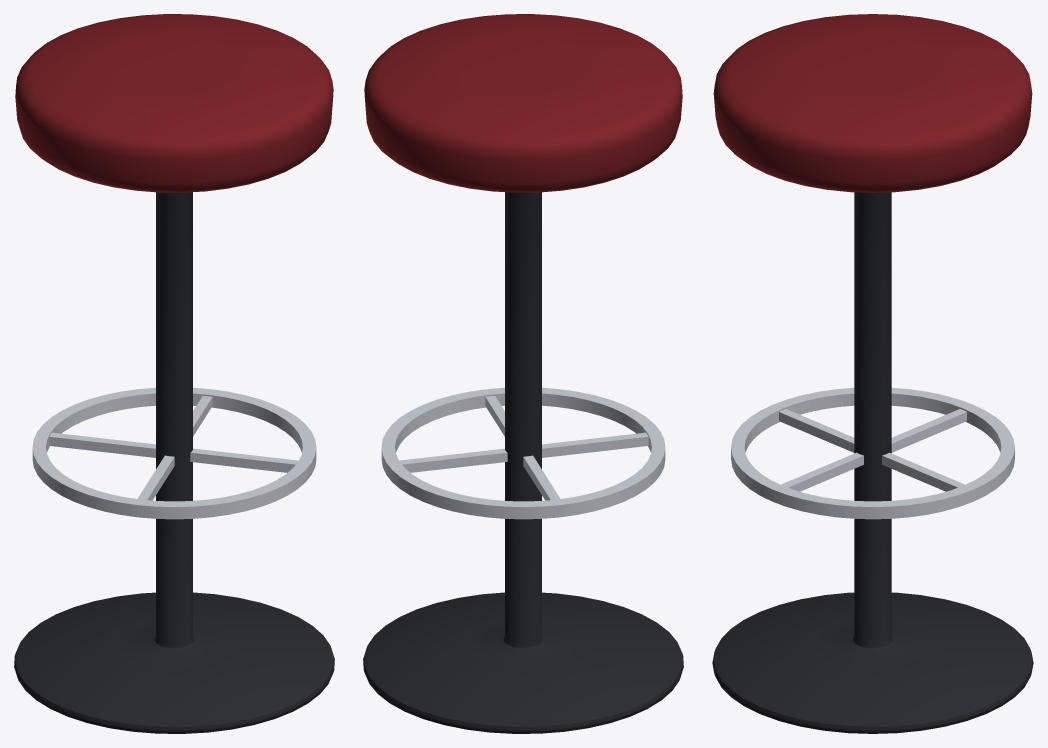
Rendered from BarStool.fbx.
The picture shows the model from 3 angles, left to right: view 1: azimuth 30°, elevation 25°; view 2: azimuth 150°, elevation 25°; view 3: azimuth 270°, elevation 25°; orthographic projection.
Visible parts, largest first — view 1: BarStool; view 2: BarStool; view 3: BarStool.
Part boxes in pixels (<box>): BarStool: <box>14,14,334,733</box>; BarStool: <box>363,14,683,733</box>; BarStool: <box>712,14,1033,733</box>.
Size of the model in its own units: 0.38 by 0.785 by 0.38.
